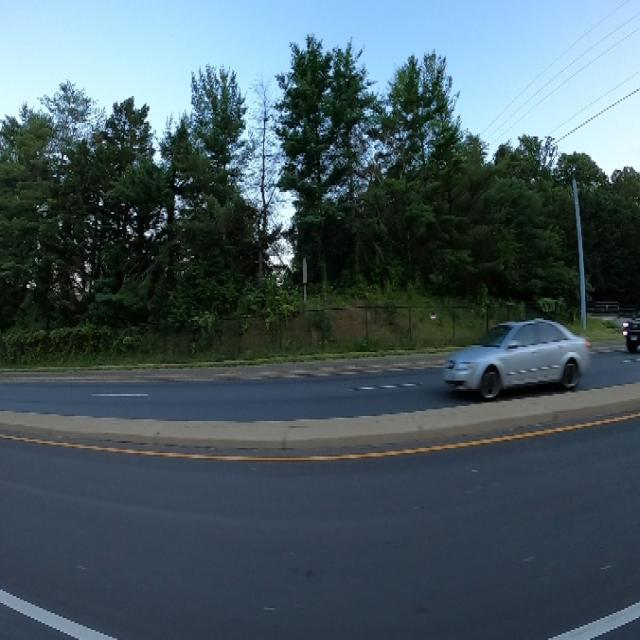cars: (438, 303, 591, 402), (620, 297, 640, 366)
